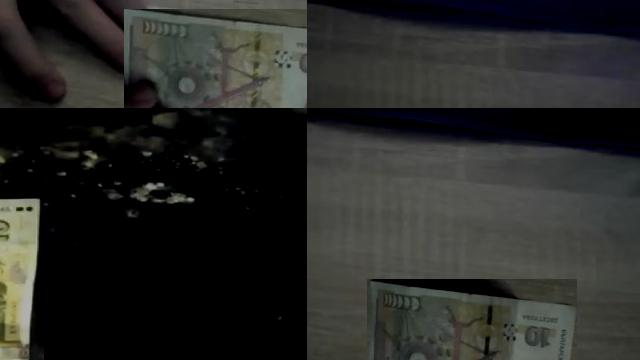10leva: (124, 9, 307, 108), (368, 279, 577, 360), (0, 195, 44, 360)
